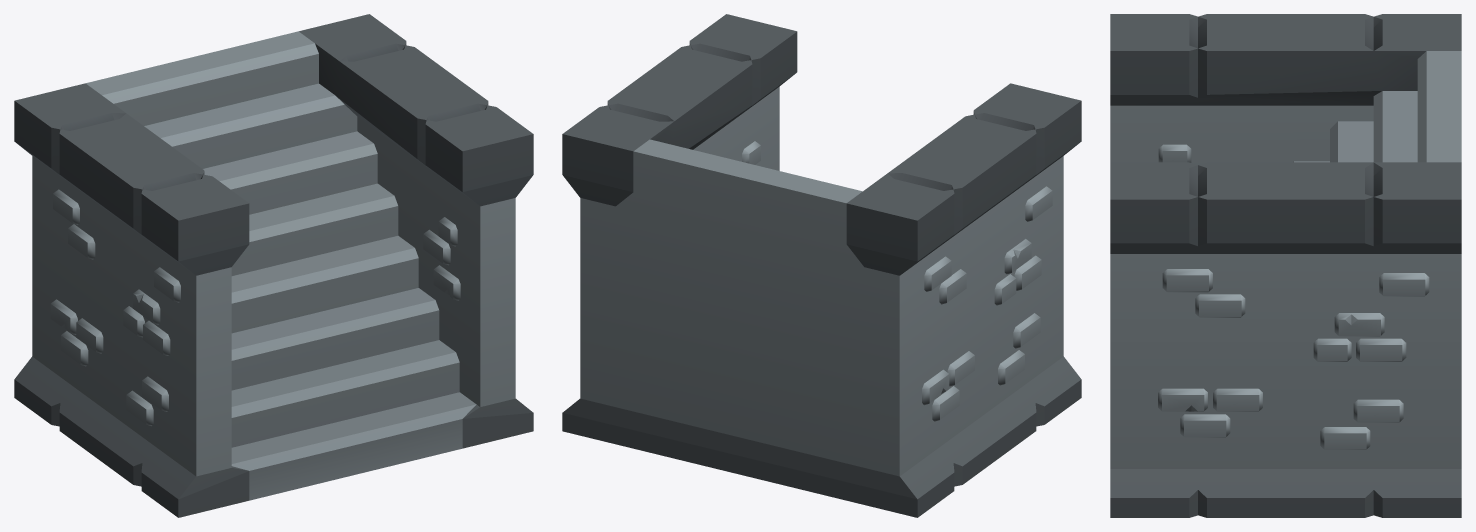
Rendered from stairs_walled.glb.
The picture shows the model from 3 angles, left to right: view 1: azimuth 30°, elevation 25°; view 2: azimuth 150°, elevation 25°; view 3: azimuth 270°, elevation 25°; orthographic projection. The views are drawn at different scales.
Visible parts, largest first — view 1: stairs_walled; view 2: stairs_walled; view 3: stairs_walled.
Boxes of the visible parts, x1,y1,x2,y2 form: stairs_walled: (14, 14, 533, 517); stairs_walled: (562, 14, 1081, 517); stairs_walled: (1110, 14, 1461, 517).
Bounding box in the file's own units: 2.5 × 2 × 2.
Materials: 1 (1 with a texture image).
